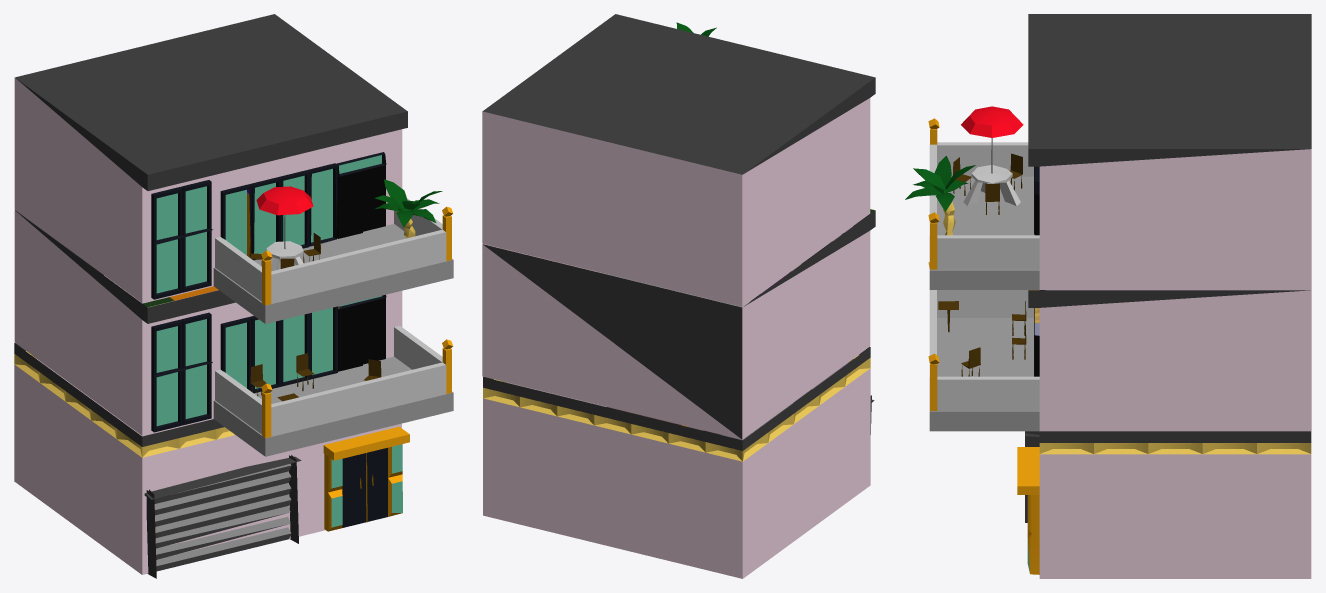
File: PredioCentroBrancoLOD1.fbx
The picture shows the model from 3 angles, left to right: view 1: azimuth 30°, elevation 25°; view 2: azimuth 150°, elevation 25°; view 3: azimuth 270°, elevation 25°; orthographic projection. The views are drawn at different scales.
Parts seen in each view (by area): view 1: PredioFundacaoLOD1, Andar2LOD1, Andar1LOD1, GaragemLOD1; view 2: PredioFundacaoLOD1; view 3: PredioFundacaoLOD1, Andar2LOD1, Andar1LOD1.
Boxes of the visible parts, x1,y1,x2,y2 form: PredioFundacaoLOD1: (14,14,409,574); Andar2LOD1: (213,179,453,323); Andar1LOD1: (213,326,453,456); GaragemLOD1: (144,455,301,578); PredioFundacaoLOD1: (482,14,875,578); PredioFundacaoLOD1: (928,14,1311,578); Andar2LOD1: (905,106,1039,289); Andar1LOD1: (928,290,1047,431).
Bounding box in the file's own units: 782 × 1161 × 994.
1 material, 1 textured.
